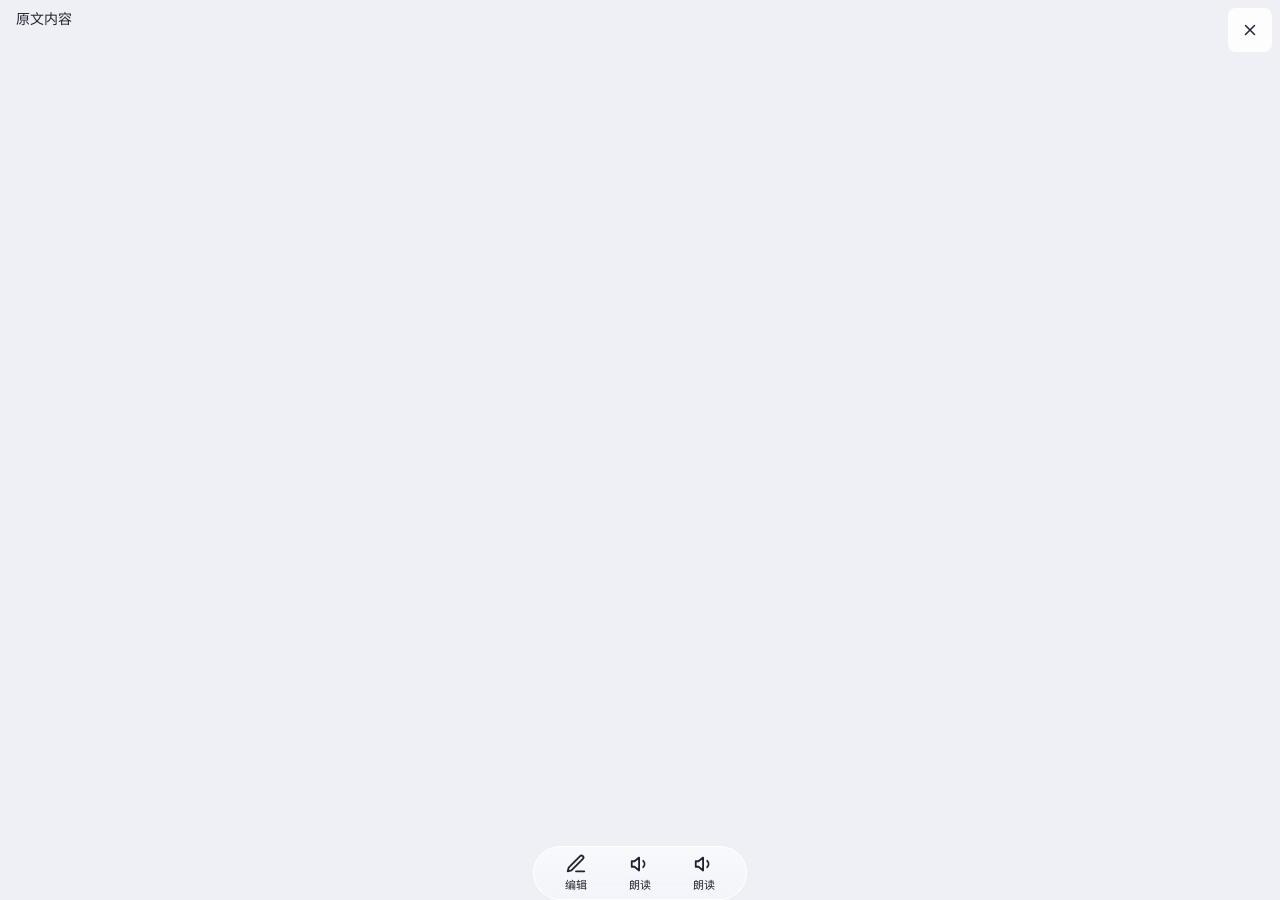
Scenario: MobileNodeViewer 文本就地编辑（问题③ v2） › 编辑态底栏收敛为唯一动作【退出编辑】（朗读退场，对标取消圈选）
Click the button with test id "mobile-viewer-bottom-edit" at (576, 873), box x1=554 y1=851 x2=598 y2=895
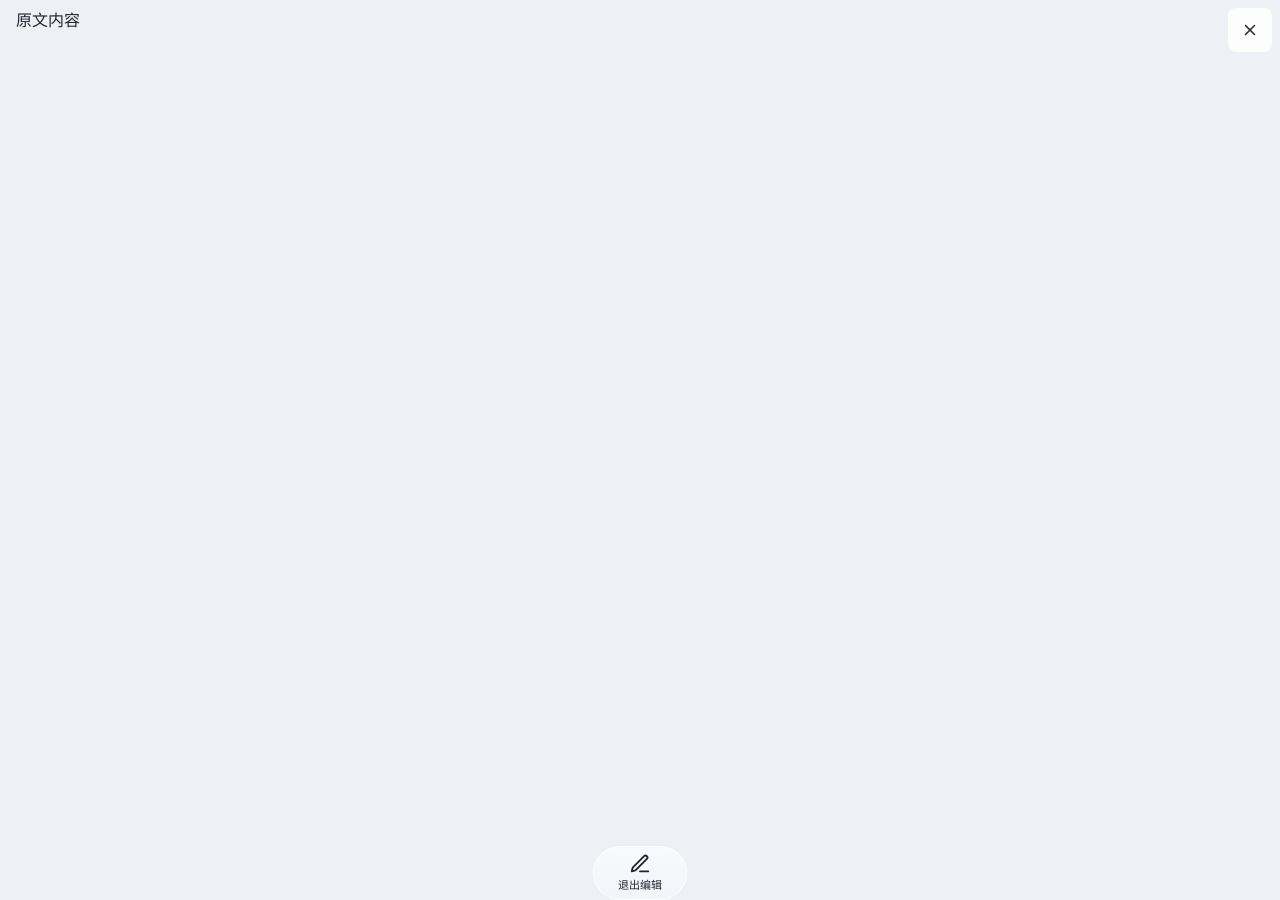
Check: the elements with class "mv-chrome-item" read "退出编辑", in this order, box x1=614 y1=851 x2=666 y2=895
